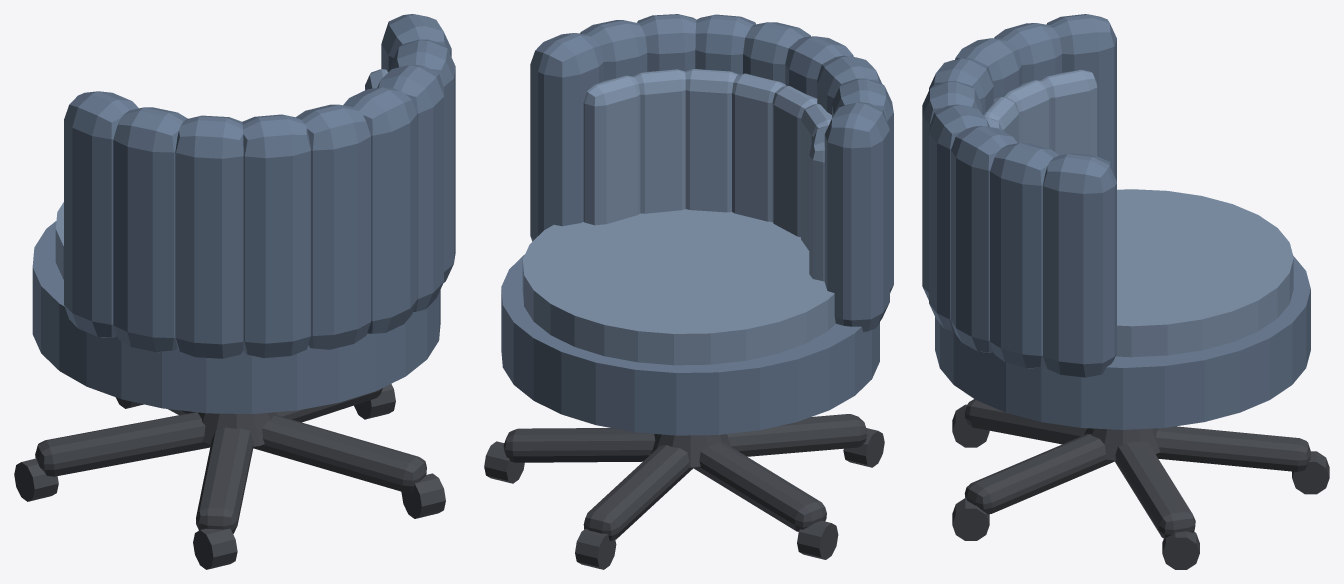
File: chair_c.glb
The picture shows the model from 3 angles, left to right: view 1: azimuth 30°, elevation 25°; view 2: azimuth 150°, elevation 25°; view 3: azimuth 270°, elevation 25°; orthographic projection. The views are drawn at different scales.
Parts seen in each view (by area): view 1: ChairBack, Chair; view 2: Chair, ChairBack; view 3: Chair, ChairBack.
Part boxes in pixels (x1,y1,x2,y2): ChairBack: (64, 14, 455, 358); Chair: (14, 69, 445, 569); Chair: (484, 69, 884, 569); ChairBack: (530, 14, 893, 331); Chair: (935, 69, 1329, 569); ChairBack: (922, 14, 1116, 377).
Bounding box in the file's own units: 0.4617 × 0.5189 × 0.477.
